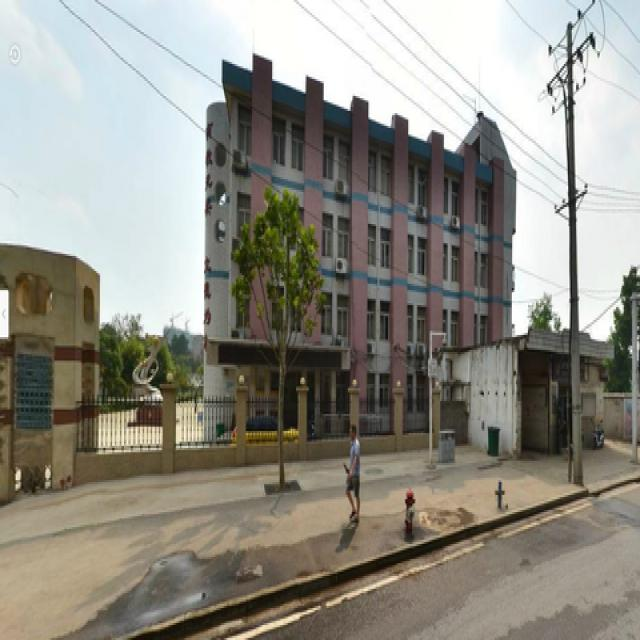koel: (241, 194, 316, 463)
